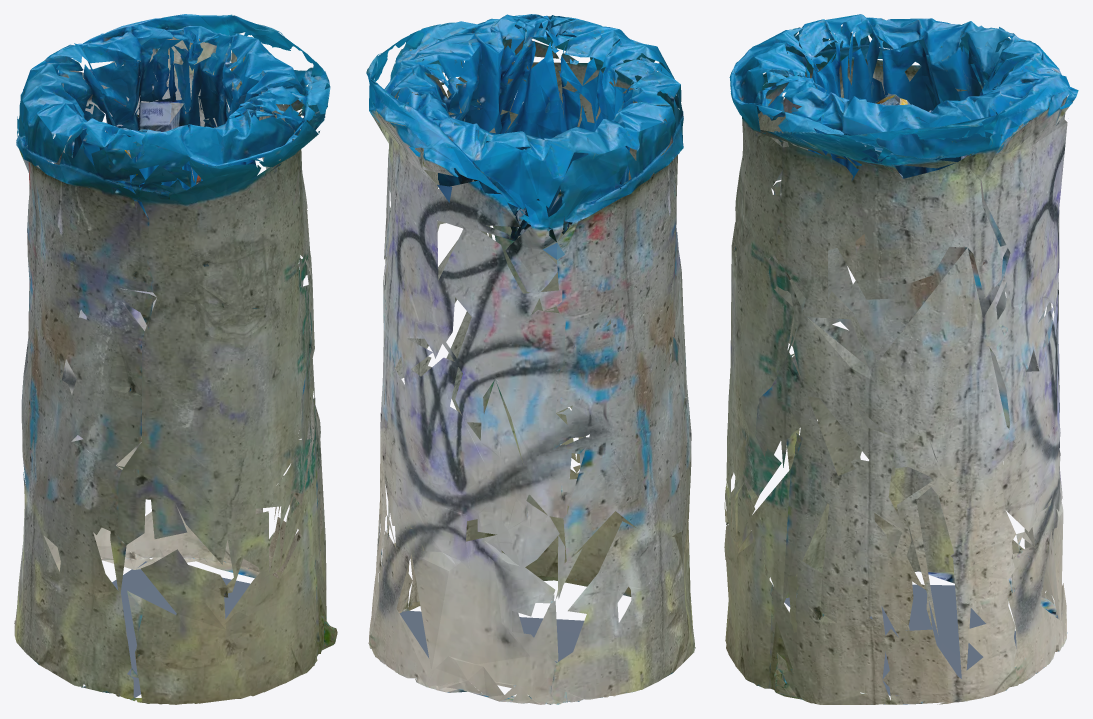
Rendered from trash-bin.glb.
The picture shows the model from 3 angles, left to right: view 1: azimuth 30°, elevation 25°; view 2: azimuth 150°, elevation 25°; view 3: azimuth 270°, elevation 25°; orthographic projection. The views are drawn at different scales.
Parts seen in each view (by area): view 1: Object_2, Object_4, Object_3, Object_5; view 2: Object_2, Object_4, Object_3, Object_5; view 3: Object_4, Object_2, Object_5, Object_3.
Part boxes in pixels (x1=…): Object_2: x1=16, y1=39, x2=314, y2=699; Object_4: x1=14, y1=14, x2=337, y2=704; Object_3: x1=17, y1=37, x2=328, y2=578; Object_5: x1=18, y1=14, x2=325, y2=597; Object_2: x1=375, y1=42, x2=694, y2=662; Object_4: x1=368, y1=14, x2=695, y2=704; Object_3: x1=373, y1=14, x2=685, y2=599; Object_5: x1=366, y1=14, x2=678, y2=701; Object_4: x1=724, y1=14, x2=1078, y2=704; Object_2: x1=724, y1=30, x2=1067, y2=704; Object_5: x1=726, y1=20, x2=1067, y2=676; Object_3: x1=727, y1=17, x2=1067, y2=542.
Size of the model in its own units: 0.5215 by 1.04 by 0.5642.
1 material, 1 textured.
